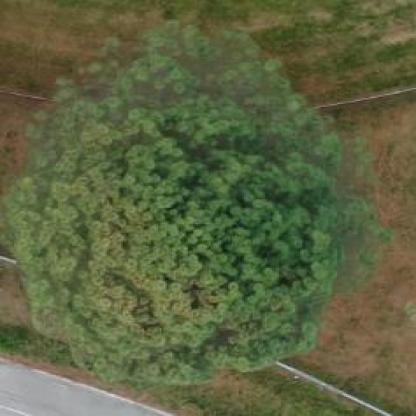Coniferous Tree: (0, 16, 397, 382)
